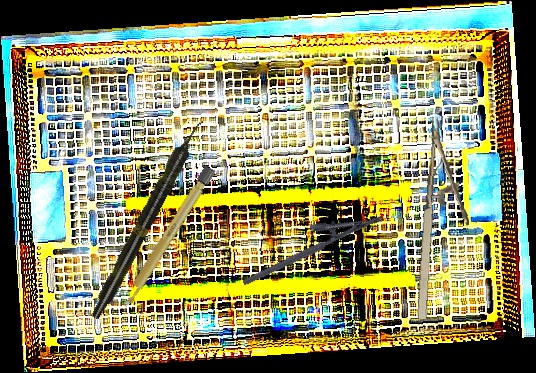Handpiece: (86, 115, 209, 323)
Needle Holder: (411, 116, 480, 323), (233, 195, 385, 287)
Scalpel Handle: (118, 164, 216, 311)
